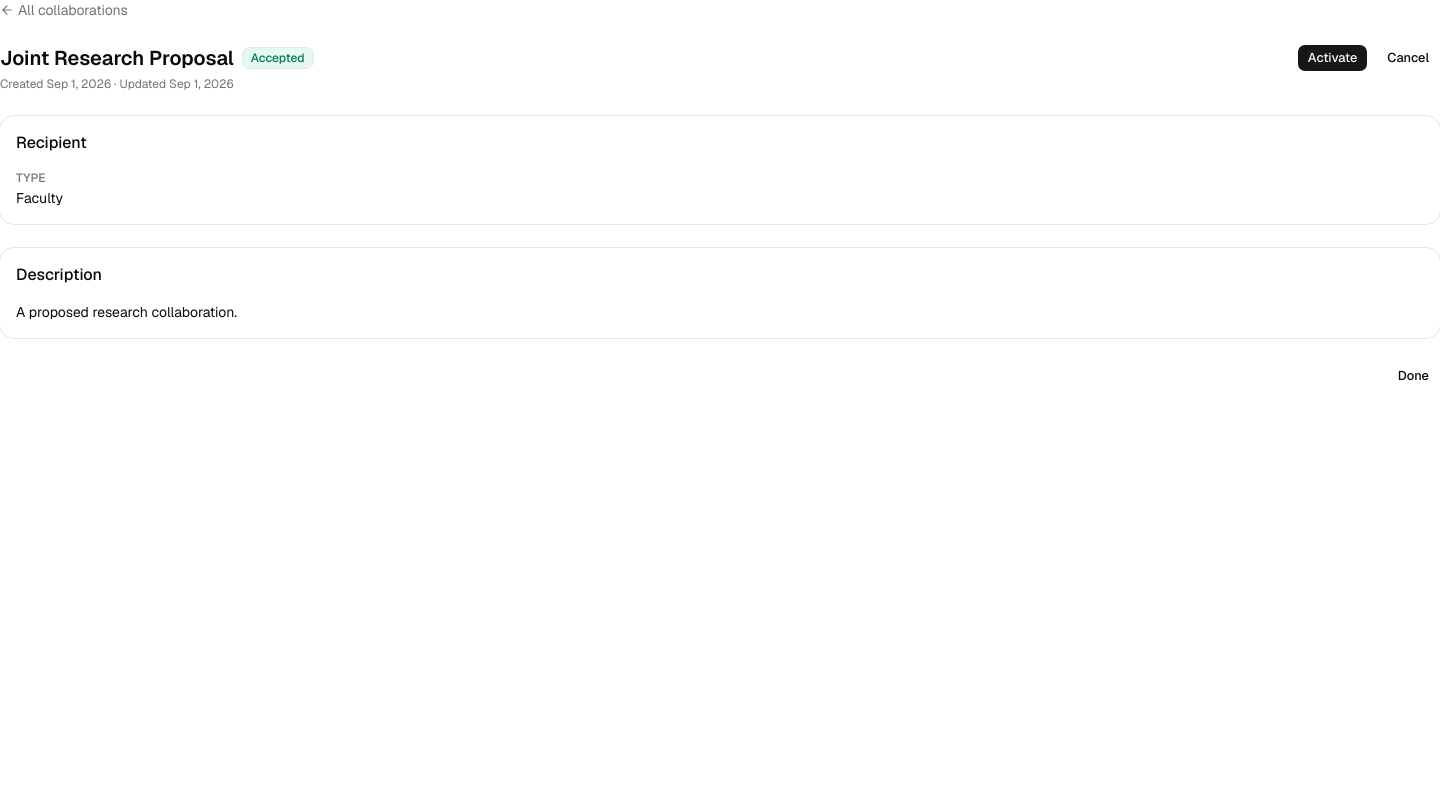
CollaborationDetailView › activates an accepted collaboration
Expected: the heading "Joint Research Proposal" is shown, [0,44,234,72]
Click the button "Activate": [1333, 58] box [1297,44,1368,72]
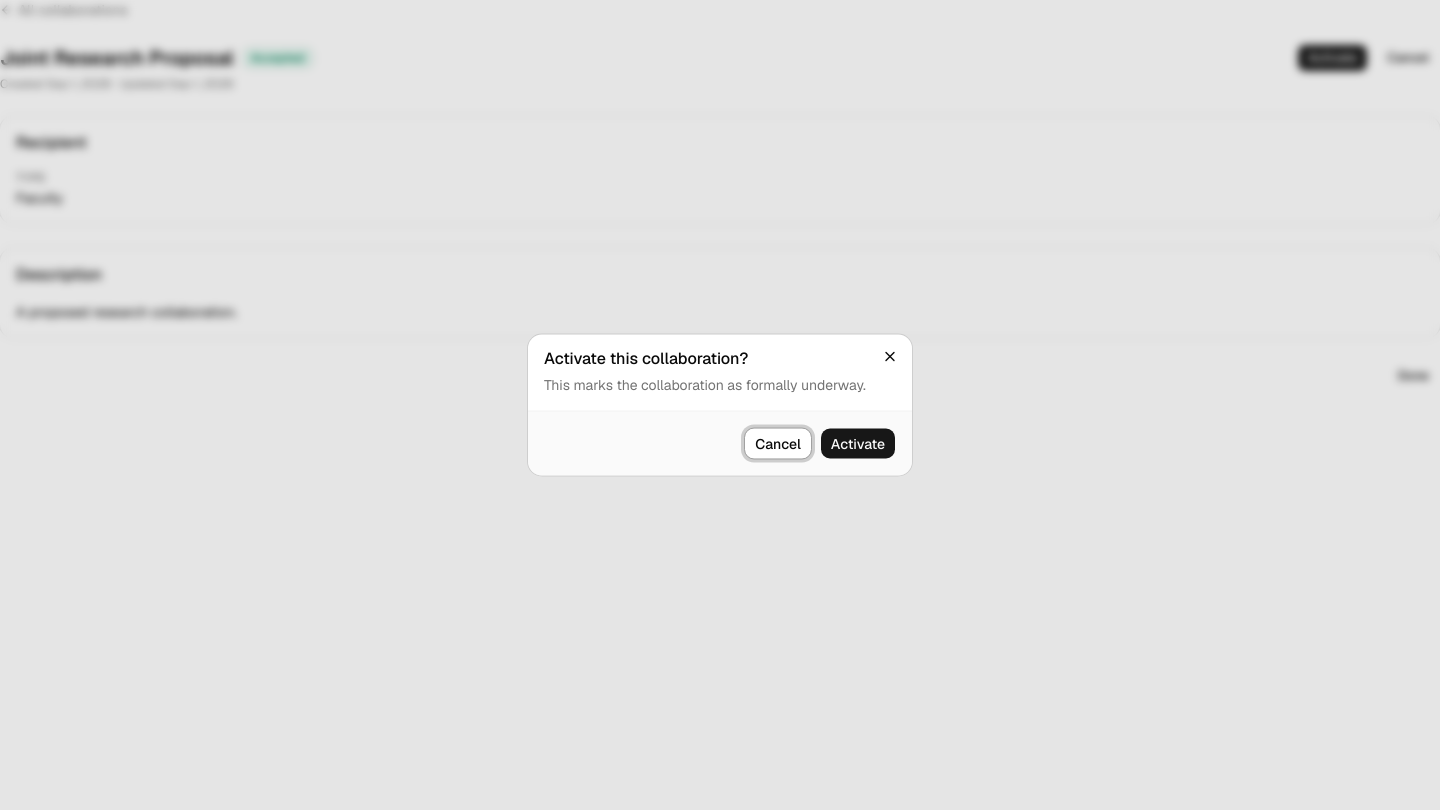
Click the button "Activate": [858, 444] box [820,428,896,460]
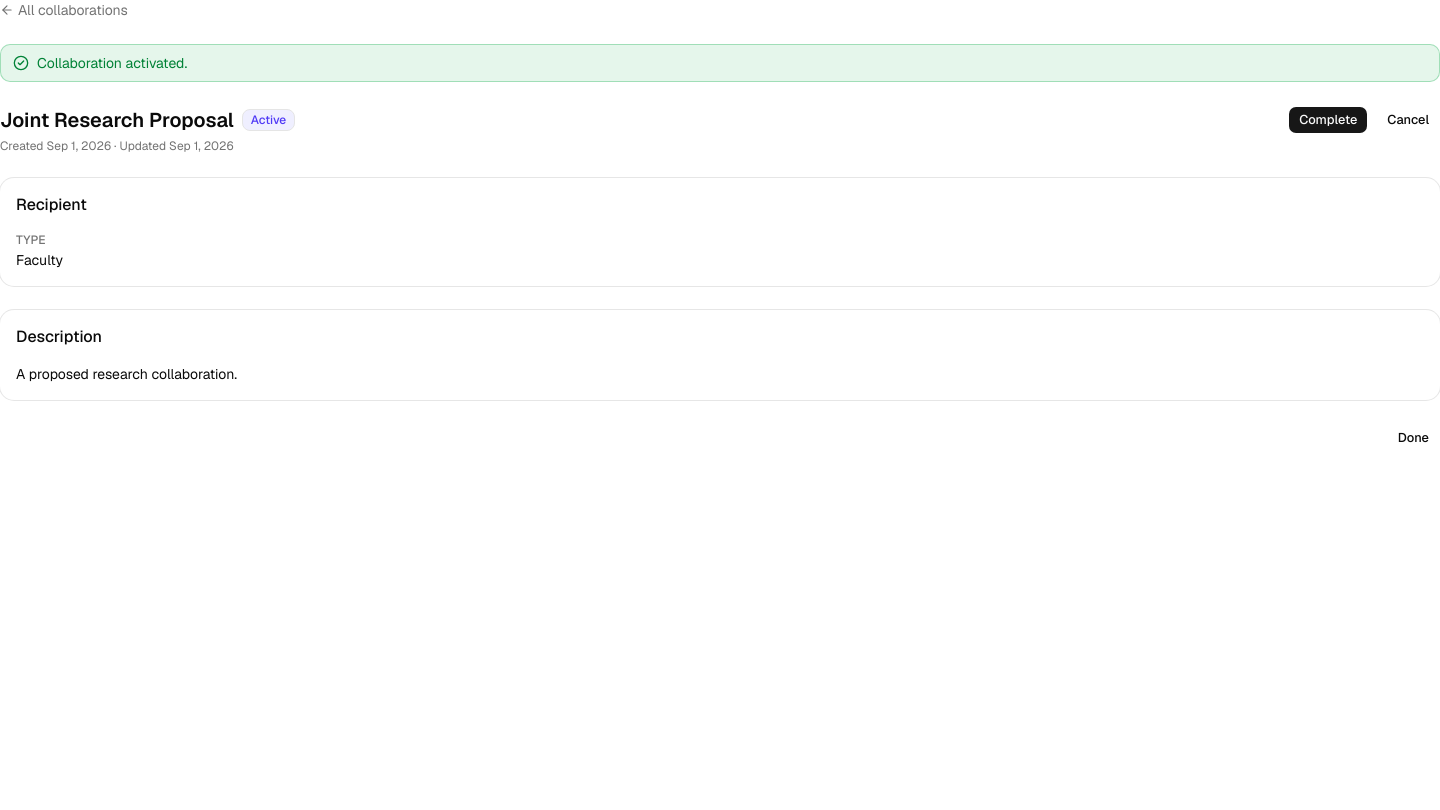
Result: the text "Collaboration activated." is shown at [37,53,187,73]
